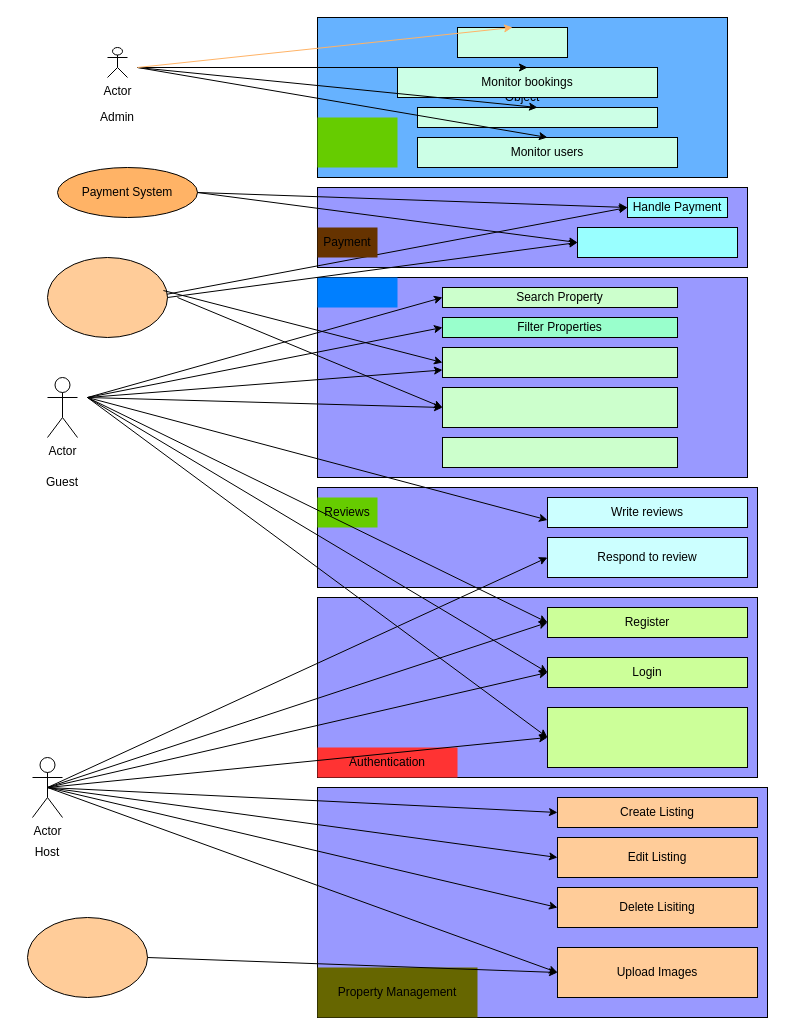
This 785x1035 diagram has some shape labels left out. The centre of each missing label's shape, as x and y in pixels:
"Admin Dashboard" goes at pixel 357 142.
"Booking Sysytem" goes at pixel 357 292.
"Cancel Booking" goes at pixel 560 407.
"Cloud Storage" goes at pixel 87 957.
"Create Booking" goes at pixel 560 362.
"Manage bookings" goes at pixel 560 452.
"Manage Profile" goes at pixel 647 737.
"Monitor listings" goes at pixel 537 117.
"Monitor Payments" goes at pixel 512 42.
"Notification Systems" goes at pixel 107 297.
"Process payment" goes at pixel 657 242.
